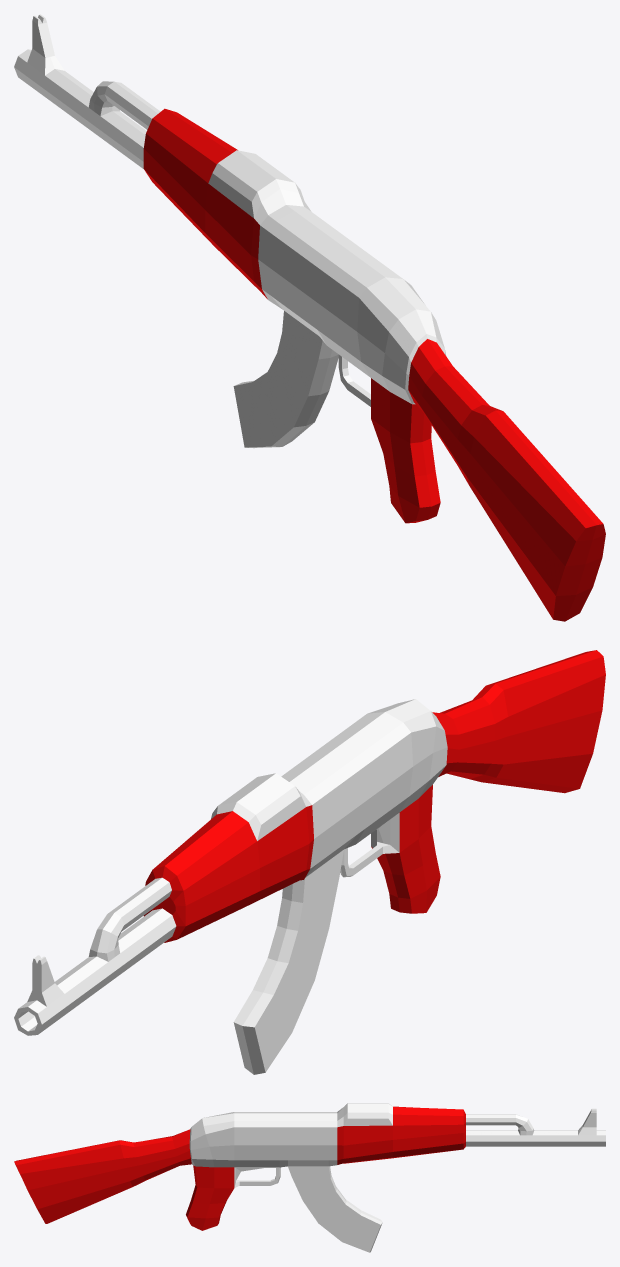
The picture shows the model from 3 angles, top to bottom: view 1: azimuth 30°, elevation 25°; view 2: azimuth 150°, elevation 25°; view 3: azimuth 270°, elevation 25°; orthographic projection. The views are drawn at different scales.
Parts seen in each view (by area): view 1: AK-47; view 2: AK-47; view 3: AK-47.
Boxes of the visible parts, left/top/right/bottom form: AK-47: left=14, top=14, right=605, bottom=621; AK-47: left=14, top=650, right=605, bottom=1074; AK-47: left=14, top=1103, right=605, bottom=1252.
Bounding box in the file's own units: 0.0605 × 0.2824 × 1.02.
